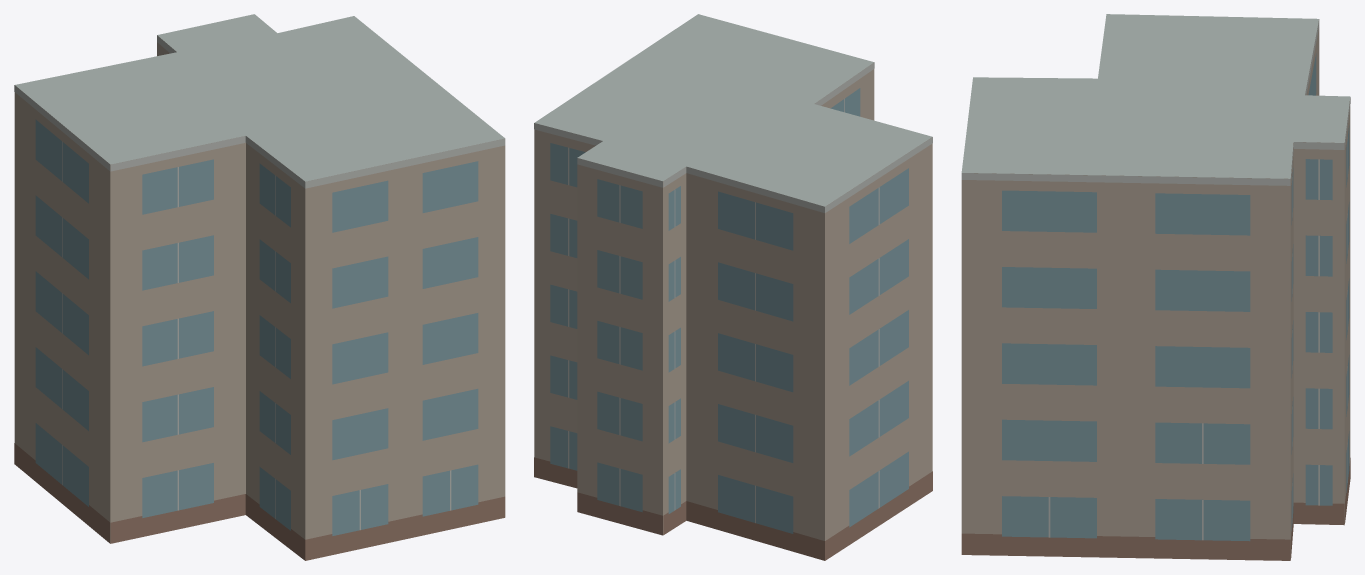
Rendered from survey-upis-32941717.glb.
3 views of the same model, side by side, from view 1: azimuth 30°, elevation 25°; view 2: azimuth 150°, elevation 25°; view 3: azimuth 270°, elevation 25° (orthographic). The views are drawn at different scales.
Visible parts, largest first — view 1: survey-upis-32941717.tmp; view 2: survey-upis-32941717.tmp; view 3: survey-upis-32941717.tmp.
Part boxes in pixels (x1,y1,x2,y2): survey-upis-32941717.tmp: (14,14,505,560); survey-upis-32941717.tmp: (534,14,932,560); survey-upis-32941717.tmp: (961,14,1350,560).
Size of the model in its own units: 12.22 by 13.2 by 12.19.
